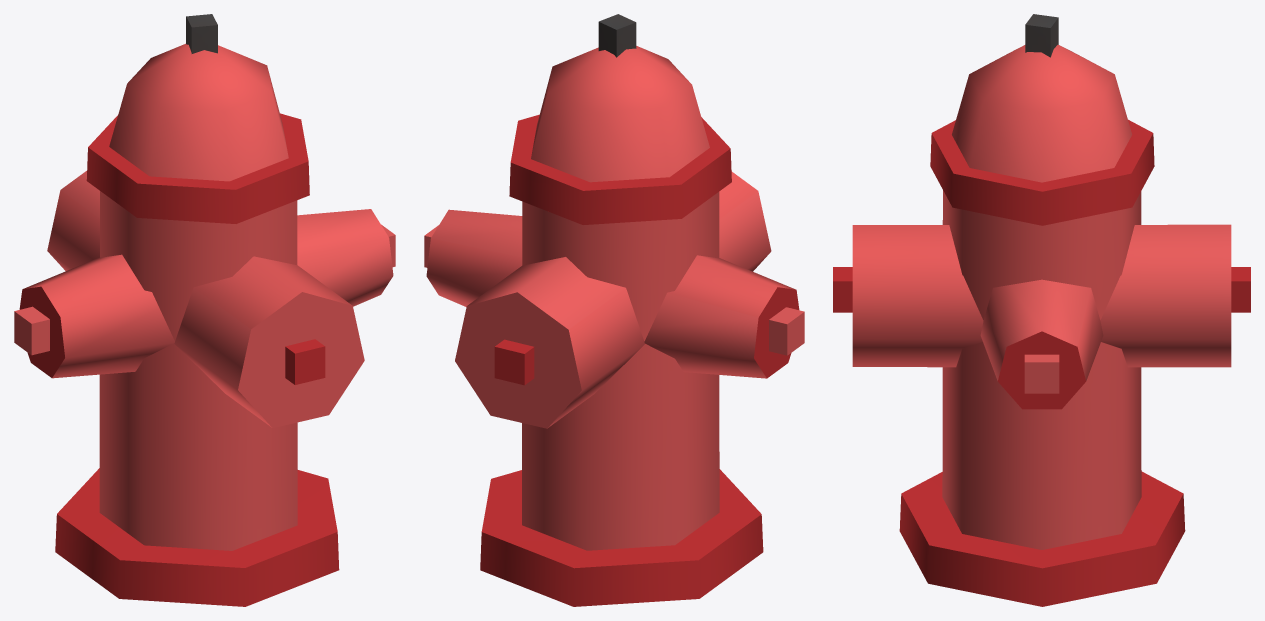
The model's file is hydrant_001.glb.
3 views of the same model, side by side, from view 1: azimuth 30°, elevation 25°; view 2: azimuth 150°, elevation 25°; view 3: azimuth 270°, elevation 25° (orthographic).
Parts seen in each view (by area): view 1: hydrant_001; view 2: hydrant_001; view 3: hydrant_001.
Boxes of the visible parts, x1,y1,x2,y2 form: hydrant_001: (14,14,395,606); hydrant_001: (424,14,804,606); hydrant_001: (833,14,1250,606).
Bounding box in the file's own units: 0.6326 × 0.875 × 0.6325.
Materials: 1 (1 with a texture image).
